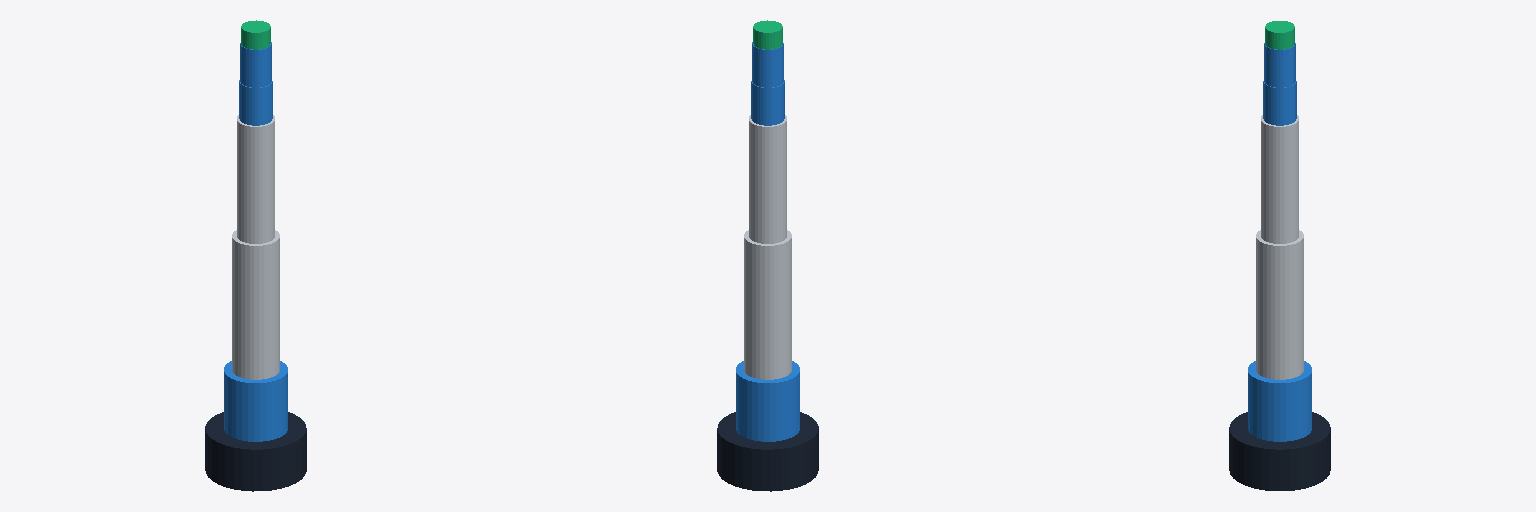
The robot description file, URDF, robot "capstone3_6dof_arm":
<?xml version="1.0" encoding="utf-8"?>
<!--
  Capstone III: 6-DOF Force-Controlled Serial Robotic Manipulator
  - Spherical-wrist industrial/collaborative kinematic topology (Z-Y-Y-Z-Y-Z)
  - Designed for 1 kHz Operational-Space Cartesian Impedance Control & Visual Servoing
  - All 7 rigid links + TCP tool frame satisfy SPD and triangle-inequality inertia bounds.
-->
<robot name="capstone3_6dof_arm">

  <material name="graphite_base">
    <color rgba="0.16 0.20 0.26 1.0"/>
  </material>
  <material name="cobalt_joint">
    <color rgba="0.22 0.58 0.92 1.0"/>
  </material>
  <material name="silver_link">
    <color rgba="0.82 0.85 0.88 1.0"/>
  </material>
  <material name="emerald_flange">
    <color rgba="0.16 0.78 0.52 1.0"/>
  </material>

  <!-- Link 0: Fixed Mounting Base -->
  <link name="base_link">
    <inertial>
      <origin xyz="0.0 0.0 0.05" rpy="0.0 0.0 0.0"/>
      <mass value="4.200"/>
      <inertia ixx="0.022000" ixy="0.0" ixz="0.0" iyy="0.022000" iyz="0.0" izz="0.031000"/>
    </inertial>
    <visual>
      <origin xyz="0.0 0.0 0.05" rpy="0.0 0.0 0.0"/>
      <geometry>
        <cylinder radius="0.11" length="0.10"/>
      </geometry>
      <material name="graphite_base"/>
    </visual>
    <collision>
      <origin xyz="0.0 0.0 0.05" rpy="0.0 0.0 0.0"/>
      <geometry>
        <cylinder radius="0.11" length="0.10"/>
      </geometry>
    </collision>
  </link>

  <!-- Joint 1: Shoulder Pan (+Z) -->
  <joint name="j1_shoulder_pan" type="revolute">
    <parent link="base_link"/>
    <child link="shoulder_link"/>
    <origin xyz="0.0 0.0 0.10" rpy="0.0 0.0 0.0"/>
    <axis xyz="0.0 0.0 1.0"/>
    <limit lower="-3.14159265" upper="3.14159265" effort="65.0" velocity="3.5"/>
    <dynamics damping="0.18" friction="0.12"/>
  </joint>

  <link name="shoulder_link">
    <inertial>
      <origin xyz="0.0 0.0 0.07" rpy="0.0 0.0 0.0"/>
      <mass value="2.800"/>
      <inertia ixx="0.011500" ixy="0.0" ixz="0.0" iyy="0.011500" iyz="0.0" izz="0.008400"/>
    </inertial>
    <visual>
      <origin xyz="0.0 0.0 0.07" rpy="0.0 0.0 0.0"/>
      <geometry>
        <cylinder radius="0.07" length="0.14"/>
      </geometry>
      <material name="cobalt_joint"/>
    </visual>
    <collision>
      <origin xyz="0.0 0.0 0.07" rpy="0.0 0.0 0.0"/>
      <geometry>
        <cylinder radius="0.07" length="0.14"/>
      </geometry>
    </collision>
  </link>

  <!-- Joint 2: Shoulder Lift (+Y) -->
  <joint name="j2_shoulder_lift" type="revolute">
    <parent link="shoulder_link"/>
    <child link="upper_arm_link"/>
    <origin xyz="0.0 0.0 0.14" rpy="0.0 0.0 0.0"/>
    <axis xyz="0.0 1.0 0.0"/>
    <limit lower="-2.35619449" upper="2.35619449" effort="65.0" velocity="3.5"/>
    <dynamics damping="0.18" friction="0.12"/>
  </joint>

  <link name="upper_arm_link">
    <inertial>
      <origin xyz="0.0 0.0 0.16" rpy="0.0 0.0 0.0"/>
      <mass value="2.400"/>
      <inertia ixx="0.024500" ixy="0.0" ixz="0.0" iyy="0.024500" iyz="0.0" izz="0.004200"/>
    </inertial>
    <visual>
      <origin xyz="0.0 0.0 0.16" rpy="0.0 0.0 0.0"/>
      <geometry>
        <cylinder radius="0.052" length="0.32"/>
      </geometry>
      <material name="silver_link"/>
    </visual>
    <collision>
      <origin xyz="0.0 0.0 0.16" rpy="0.0 0.0 0.0"/>
      <geometry>
        <cylinder radius="0.052" length="0.32"/>
      </geometry>
    </collision>
  </link>

  <!-- Joint 3: Elbow Pitch (+Y) -->
  <joint name="j3_elbow_pitch" type="revolute">
    <parent link="upper_arm_link"/>
    <child link="forearm_link"/>
    <origin xyz="0.0 0.0 0.32" rpy="0.0 0.0 0.0"/>
    <axis xyz="0.0 1.0 0.0"/>
    <limit lower="-2.61799388" upper="2.61799388" effort="40.0" velocity="4.5"/>
    <dynamics damping="0.12" friction="0.08"/>
  </joint>

  <link name="forearm_link">
    <inertial>
      <origin xyz="0.0 0.0 0.14" rpy="0.0 0.0 0.0"/>
      <mass value="1.650"/>
      <inertia ixx="0.012800" ixy="0.0" ixz="0.0" iyy="0.012800" iyz="0.0" izz="0.002400"/>
    </inertial>
    <visual>
      <origin xyz="0.0 0.0 0.14" rpy="0.0 0.0 0.0"/>
      <geometry>
        <cylinder radius="0.042" length="0.28"/>
      </geometry>
      <material name="silver_link"/>
    </visual>
    <collision>
      <origin xyz="0.0 0.0 0.14" rpy="0.0 0.0 0.0"/>
      <geometry>
        <cylinder radius="0.042" length="0.28"/>
      </geometry>
    </collision>
  </link>

  <!-- Joint 4: Wrist 1 Roll (+Z) -->
  <joint name="j4_wrist_roll" type="revolute">
    <parent link="forearm_link"/>
    <child link="wrist_1_link"/>
    <origin xyz="0.0 0.0 0.28" rpy="0.0 0.0 0.0"/>
    <axis xyz="0.0 0.0 1.0"/>
    <limit lower="-3.14159265" upper="3.14159265" effort="18.0" velocity="6.0"/>
    <dynamics damping="0.05" friction="0.03"/>
  </joint>

  <link name="wrist_1_link">
    <inertial>
      <origin xyz="0.0 0.0 0.045" rpy="0.0 0.0 0.0"/>
      <mass value="0.850"/>
      <inertia ixx="0.001400" ixy="0.0" ixz="0.0" iyy="0.001400" iyz="0.0" izz="0.001100"/>
    </inertial>
    <visual>
      <origin xyz="0.0 0.0 0.045" rpy="0.0 0.0 0.0"/>
      <geometry>
        <cylinder radius="0.036" length="0.09"/>
      </geometry>
      <material name="cobalt_joint"/>
    </visual>
    <collision>
      <origin xyz="0.0 0.0 0.045" rpy="0.0 0.0 0.0"/>
      <geometry>
        <cylinder radius="0.036" length="0.09"/>
      </geometry>
    </collision>
  </link>

  <!-- Joint 5: Wrist 2 Pitch (+Y) -->
  <joint name="j5_wrist_pitch" type="revolute">
    <parent link="wrist_1_link"/>
    <child link="wrist_2_link"/>
    <origin xyz="0.0 0.0 0.09" rpy="0.0 0.0 0.0"/>
    <axis xyz="0.0 1.0 0.0"/>
    <limit lower="-2.26892803" upper="2.26892803" effort="18.0" velocity="6.0"/>
    <dynamics damping="0.05" friction="0.03"/>
  </joint>

  <link name="wrist_2_link">
    <inertial>
      <origin xyz="0.0 0.0 0.045" rpy="0.0 0.0 0.0"/>
      <mass value="0.720"/>
      <inertia ixx="0.001100" ixy="0.0" ixz="0.0" iyy="0.001100" iyz="0.0" izz="0.000850"/>
    </inertial>
    <visual>
      <origin xyz="0.0 0.0 0.045" rpy="0.0 0.0 0.0"/>
      <geometry>
        <cylinder radius="0.034" length="0.09"/>
      </geometry>
      <material name="cobalt_joint"/>
    </visual>
    <collision>
      <origin xyz="0.0 0.0 0.045" rpy="0.0 0.0 0.0"/>
      <geometry>
        <cylinder radius="0.034" length="0.09"/>
      </geometry>
    </collision>
  </link>

  <!-- Joint 6: Wrist 3 Tool Flange Yaw (+Z) -->
  <joint name="j6_wrist_yaw" type="revolute">
    <parent link="wrist_2_link"/>
    <child link="flange_link"/>
    <origin xyz="0.0 0.0 0.09" rpy="0.0 0.0 0.0"/>
    <axis xyz="0.0 0.0 1.0"/>
    <limit lower="-6.2831853" upper="6.2831853" effort="12.0" velocity="8.0"/>
    <dynamics damping="0.03" friction="0.02"/>
  </joint>

  <link name="flange_link">
    <inertial>
      <origin xyz="0.0 0.0 0.02" rpy="0.0 0.0 0.0"/>
      <mass value="0.320"/>
      <inertia ixx="0.000240" ixy="0.0" ixz="0.0" iyy="0.000240" iyz="0.0" izz="0.000380"/>
    </inertial>
    <visual>
      <origin xyz="0.0 0.0 0.02" rpy="0.0 0.0 0.0"/>
      <geometry>
        <cylinder radius="0.032" length="0.04"/>
      </geometry>
      <material name="emerald_flange"/>
    </visual>
    <collision>
      <origin xyz="0.0 0.0 0.02" rpy="0.0 0.0 0.0"/>
      <geometry>
        <cylinder radius="0.032" length="0.04"/>
      </geometry>
    </collision>
  </link>

  <!-- Fixed 6-Axis Force/Torque Sensor & TCP Frame -->
  <joint name="tcp_fixed" type="fixed">
    <parent link="flange_link"/>
    <child link="tcp_link"/>
    <origin xyz="0.0 0.0 0.04" rpy="0.0 0.0 0.0"/>
  </joint>

  <link name="tcp_link">
    <inertial>
      <origin xyz="0.0 0.0 0.0" rpy="0.0 0.0 0.0"/>
      <mass value="0.050"/>
      <inertia ixx="0.000010" ixy="0.0" ixz="0.0" iyy="0.000010" iyz="0.0" izz="0.000010"/>
    </inertial>
  </link>

</robot>

--- Facts derived from the render (not from the file) ---
3 views of the same robot in one strip: view 1: azimuth 30°, elevation 25°; view 2: azimuth 150°, elevation 25°; view 3: azimuth 270°, elevation 25° (orthographic).
Model capstone3_6dof_arm with 8 links and 7 joints (6 revolute, 1 fixed), rooted at base_link, posed all joints at 0.
Visible links, largest first — view 1: upper_arm_link, base_link, forearm_link, shoulder_link, wrist_1_link, wrist_2_link, flange_link; view 2: upper_arm_link, base_link, forearm_link, shoulder_link, wrist_1_link, wrist_2_link, flange_link; view 3: upper_arm_link, base_link, forearm_link, shoulder_link, wrist_1_link, wrist_2_link, flange_link.
Link boxes in pixels (left/top/right/bottom): upper_arm_link: left=232, top=230, right=279, bottom=379; base_link: left=205, top=412, right=306, bottom=491; forearm_link: left=237, top=115, right=274, bottom=243; shoulder_link: left=224, top=361, right=287, bottom=441; wrist_1_link: left=239, top=80, right=272, bottom=125; wrist_2_link: left=240, top=42, right=271, bottom=87; flange_link: left=241, top=20, right=270, bottom=49; upper_arm_link: left=744, top=230, right=791, bottom=379; base_link: left=717, top=412, right=818, bottom=491; forearm_link: left=749, top=115, right=786, bottom=243; shoulder_link: left=736, top=361, right=799, bottom=441; wrist_1_link: left=751, top=80, right=784, bottom=125; wrist_2_link: left=752, top=42, right=783, bottom=87; flange_link: left=753, top=20, right=782, bottom=49; upper_arm_link: left=1256, top=230, right=1303, bottom=379; base_link: left=1229, top=412, right=1330, bottom=490; forearm_link: left=1261, top=115, right=1298, bottom=243; shoulder_link: left=1248, top=361, right=1311, bottom=441; wrist_1_link: left=1263, top=81, right=1296, bottom=125; wrist_2_link: left=1264, top=43, right=1295, bottom=87; flange_link: left=1265, top=21, right=1294, bottom=49.
Bounding box of the posed robot: 0.22 × 0.22 × 1.06 m (x, y, z).
Geometry: primitives only (box / cylinder / sphere), no mesh files.
